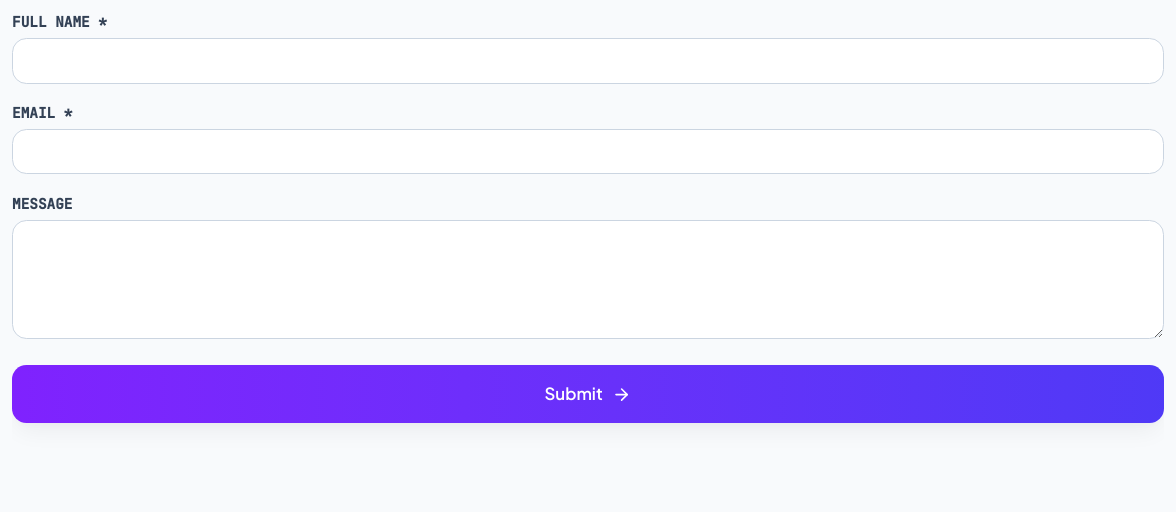
PublicForm › validates required fields client-side before ever calling submitForm
Expected: the field labelled "Full name *" is shown, [12, 38, 1164, 84]
Click the button "Submit".
click(588, 394)  # box [12, 365, 1164, 423]
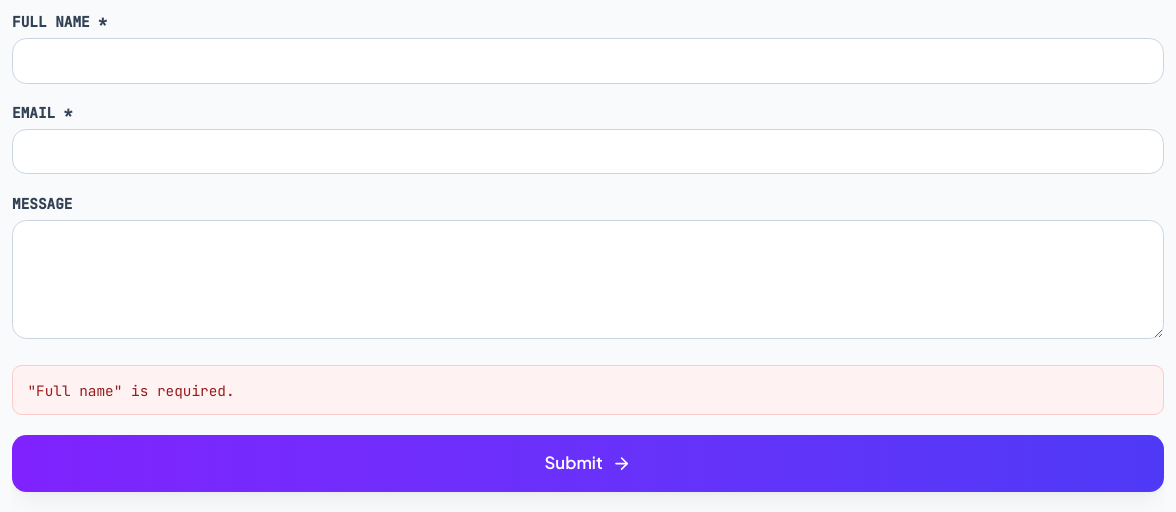
Now the text "\"Full name\" is required." is shown, box [12, 365, 1164, 415]
